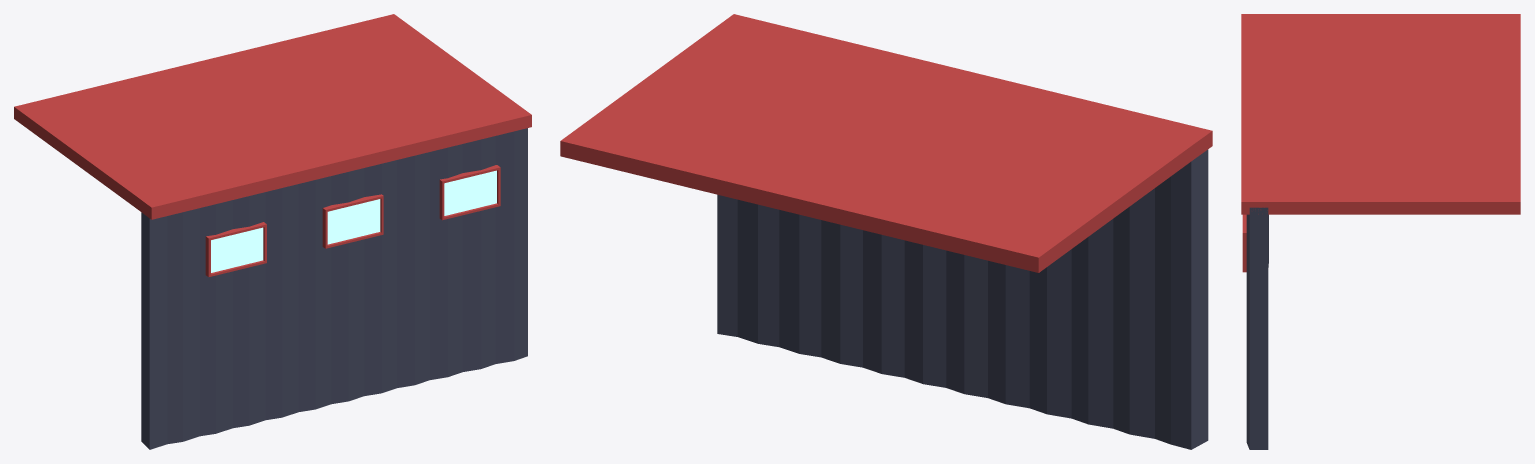
File: large_wall_extended_left.fbx
3 renders of one model, left to right at view 1: azimuth 30°, elevation 25°; view 2: azimuth 150°, elevation 25°; view 3: azimuth 270°, elevation 25°, orthographic. The views are drawn at different scales.
Visible parts, largest first — view 1: WarehouseBigWall.005; view 2: WarehouseBigWall.005; view 3: WarehouseBigWall.005.
Part boxes in pixels (x1=…): WarehouseBigWall.005: x1=14, y1=14, x2=531, y2=449; WarehouseBigWall.005: x1=560, y1=14, x2=1212, y2=449; WarehouseBigWall.005: x1=1241, y1=14, x2=1520, y2=449.
Bounding box in the file's own units: 326 × 200 × 204.
